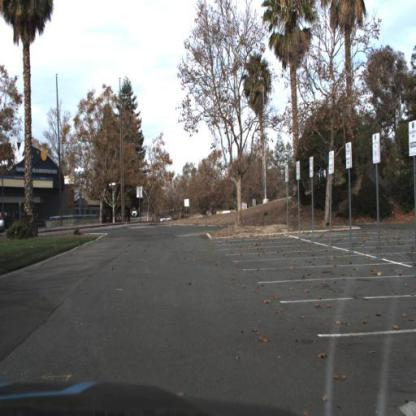car: (163, 217, 173, 223)
truck: (133, 207, 141, 219)
